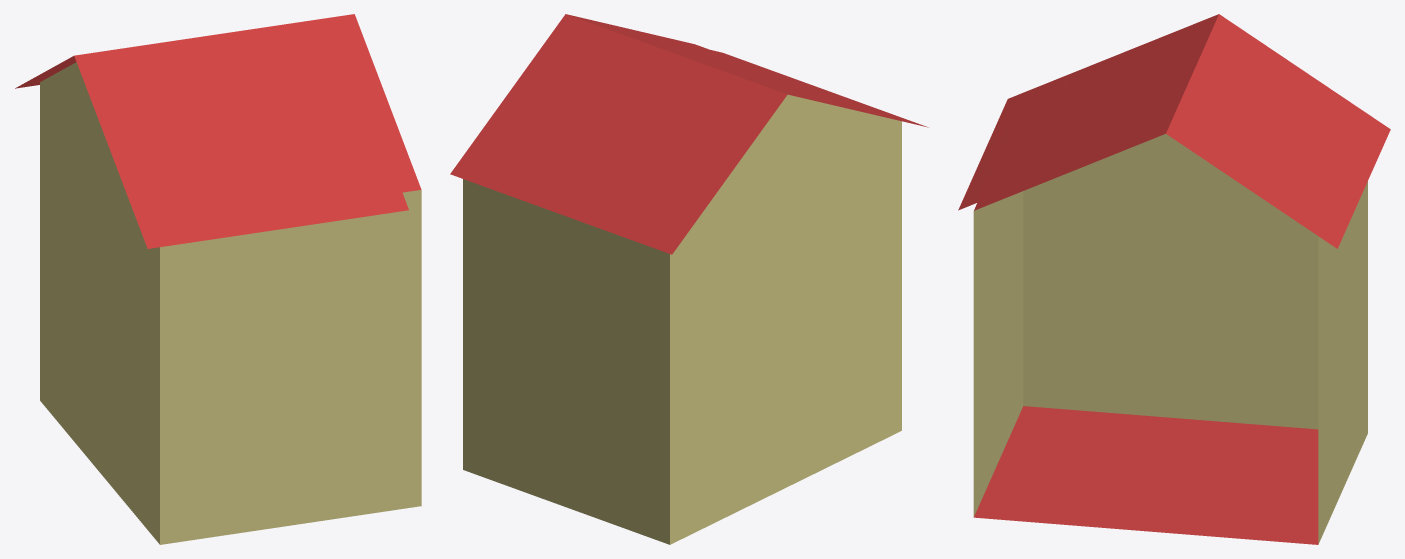
The picture shows the model from 3 angles, left to right: view 1: azimuth 30°, elevation 25°; view 2: azimuth 150°, elevation 25°; view 3: azimuth 270°, elevation 25°; orthographic projection. The views are drawn at different scales.
Size of the model in its own units: 9.07 by 11.04 by 11.24.
